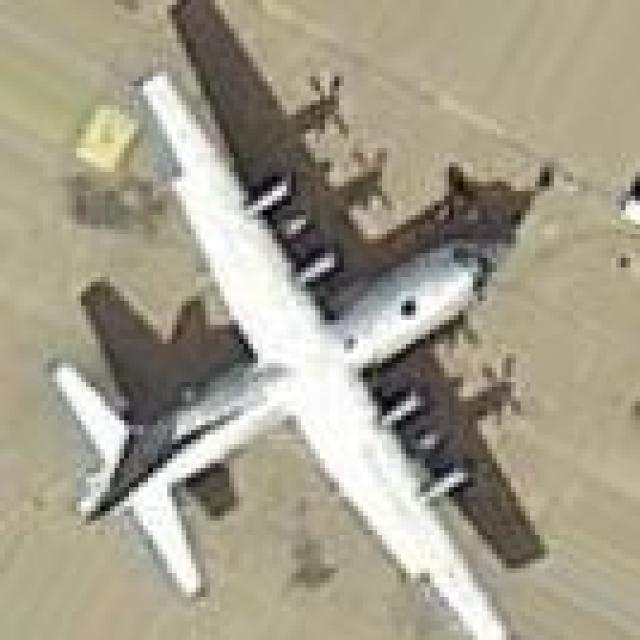C-130_TopDown: (50, 0, 553, 640)
